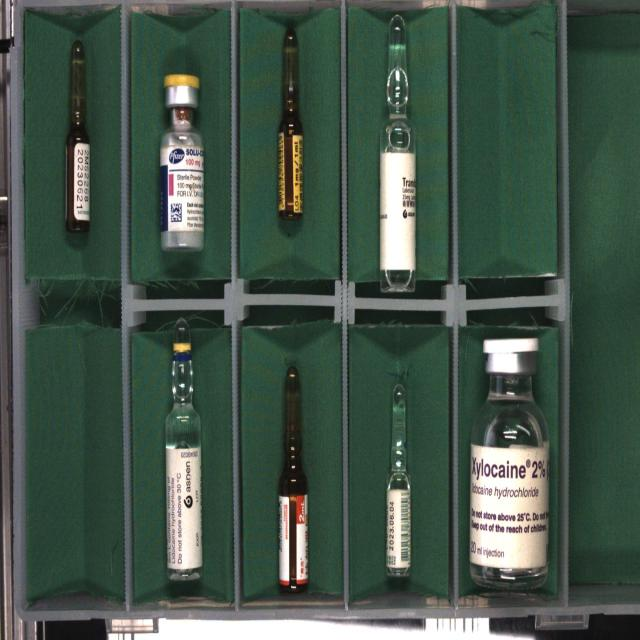Vials: (469, 338, 549, 589), (160, 74, 204, 252)
